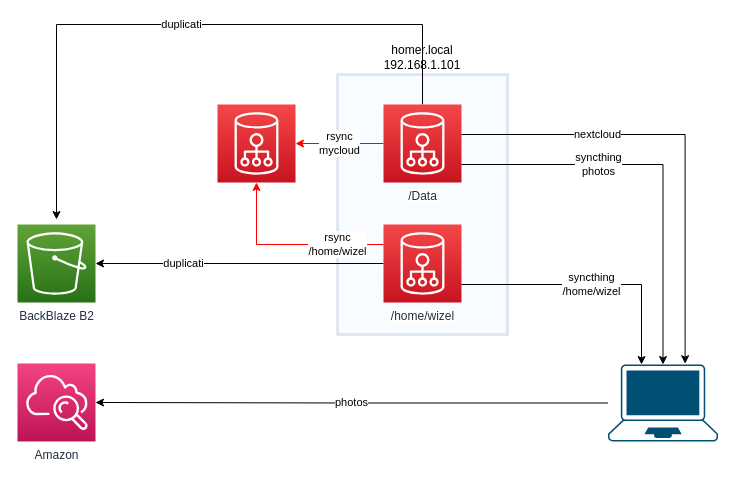
The diagram is 735 pixels wide and 480 high, and some of its shapes have lost their labels. Here are the shapes that lost their labels. From the top down, the centre of each, then its label:
At point 256,143: "/backupToshiba".
At point 663,402: "MSI".
